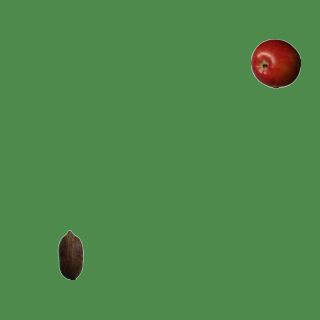Apple Braeburn: (250, 38, 300, 88)
Nut Pecan: (45, 229, 95, 279)
